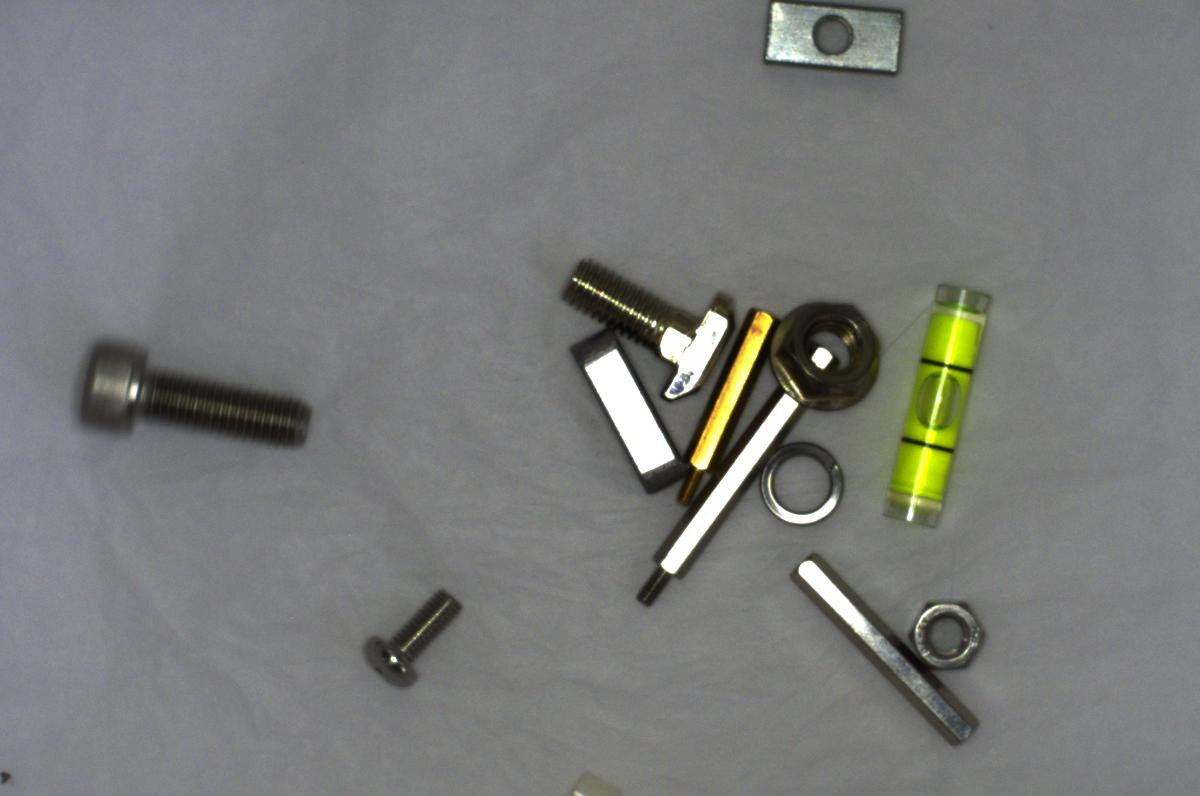Double hexagonal column: (778, 551, 984, 749)
Flange nut: (760, 292, 889, 409)
Hexagon nut: (907, 581, 994, 681)
Hexagon pillar: (679, 303, 771, 501)
Hexagon screw: (61, 330, 330, 456)
Hexagonal steel column: (624, 382, 830, 614)
Horizontal bubble: (875, 274, 1000, 524)
Keybar: (566, 315, 687, 491)
Plastic cushion pillar: (564, 756, 614, 795)
Rectangular nut: (755, 3, 914, 78)
Round head screw: (356, 577, 466, 683)
Spring washer: (753, 431, 857, 532)
T-shaped screw: (547, 260, 737, 395)
